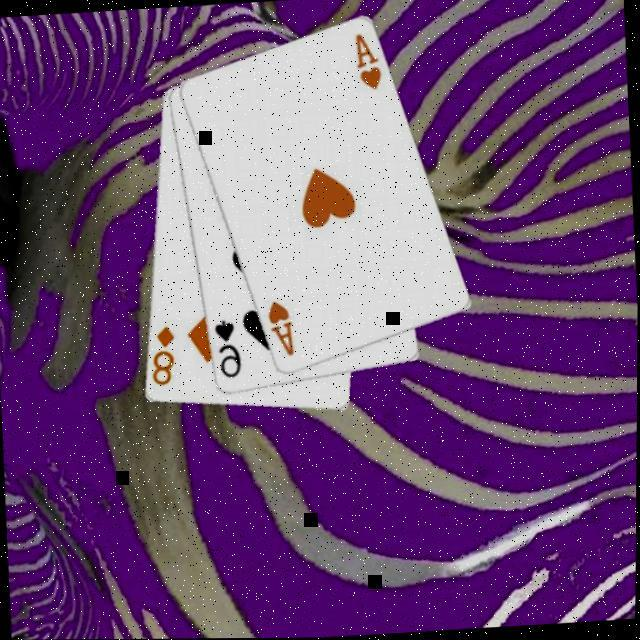8D: (150, 324, 182, 390)
9S: (214, 317, 246, 382)
AH: (266, 299, 299, 362), (353, 32, 386, 94)
